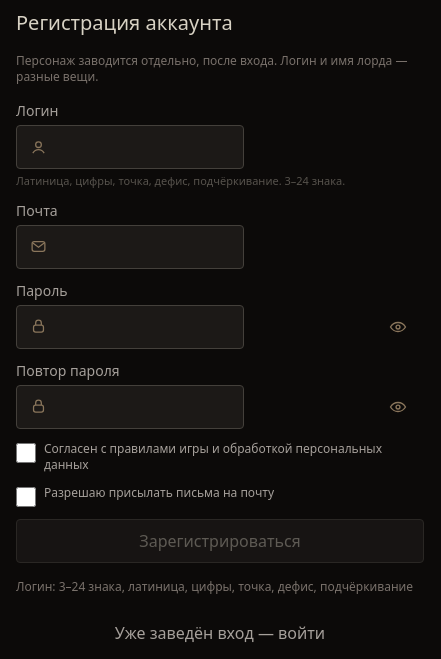
Scenario: вход и регистрация › верные поля включают кнопку и шлют регистрацию вместе с согласиями
Type "lord.dark" into the field with test id "register-login" at (130,147), box [16,125,244,169]
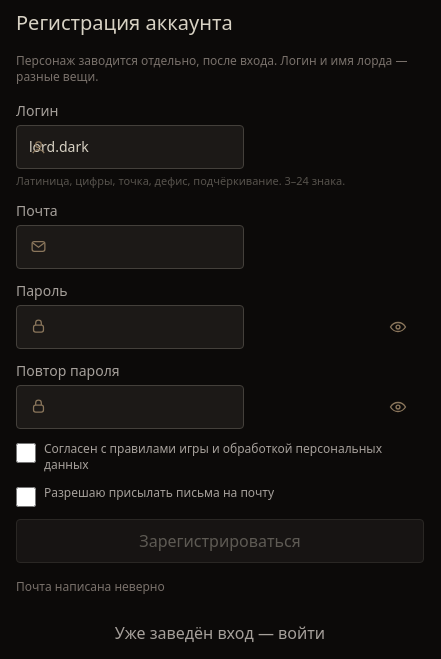
Type "lord.dark@mail.test" into the field with test id "register-email" at (130,247), box [16,225,244,269]
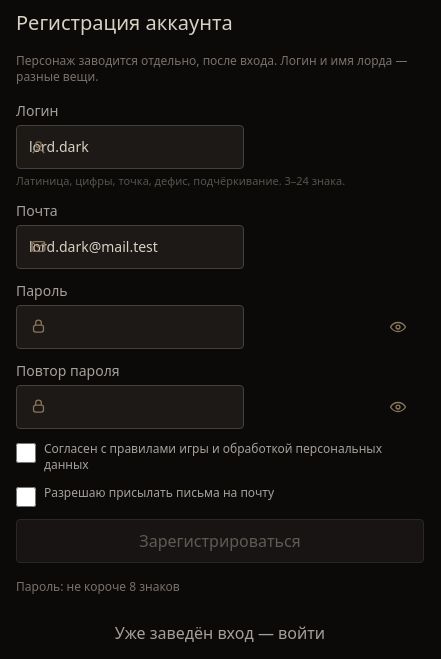
Type "пароль-из-теста" into the password field with test id "register-password" at (130,327), box [16,305,244,349]
Type "пароль-из-теста" into the password field with test id "register-repeat" at (130,407), box [16,385,244,429]
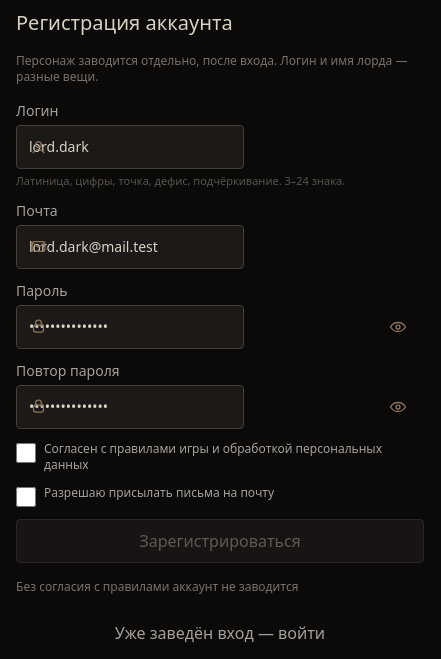
Click the checkbox with test id "register-rules" at (26,453), box [16,443,36,463]
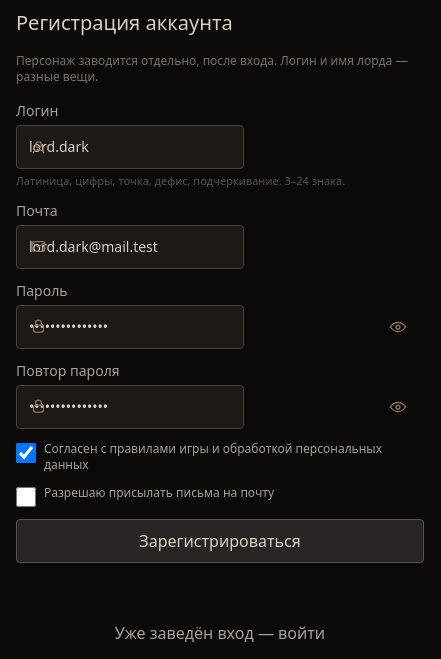
Click the checkbox with test id "register-mail" at (26,497), box [16,487,36,507]
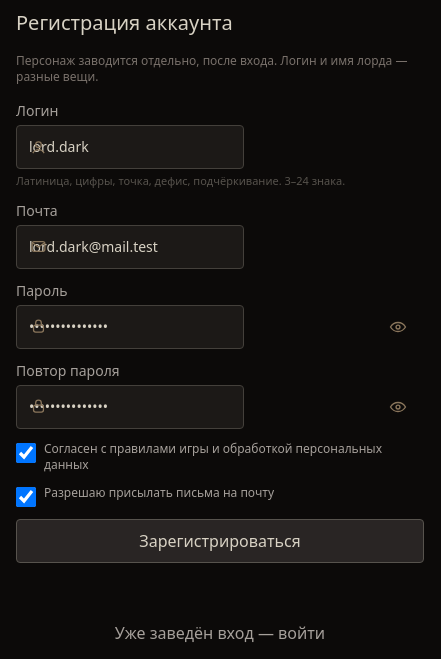
Expected: the button "Зарегистрироваться" is enabled
Click the button "Зарегистрироваться" at (220,541), box [16,519,424,563]
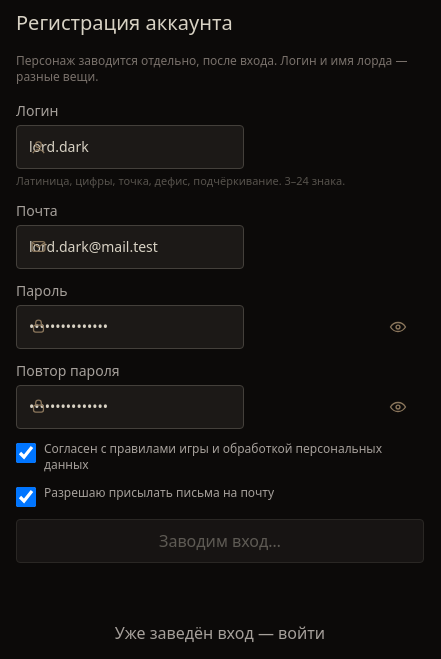
Expected: the button "Заводим вход…" is shown, [16,519,424,563]
